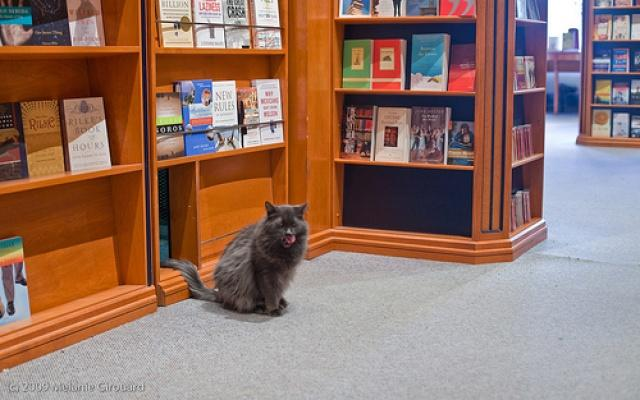Rak: (0, 0, 292, 372), (332, 0, 547, 245)
